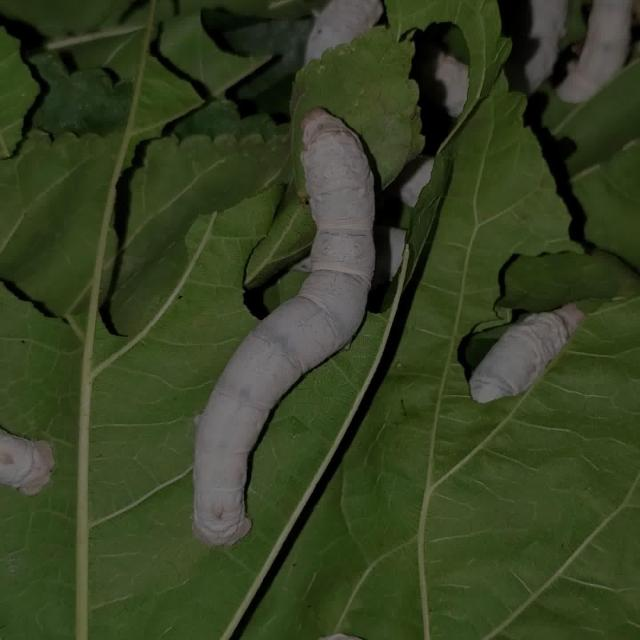Healthy: (174, 92, 424, 572)
